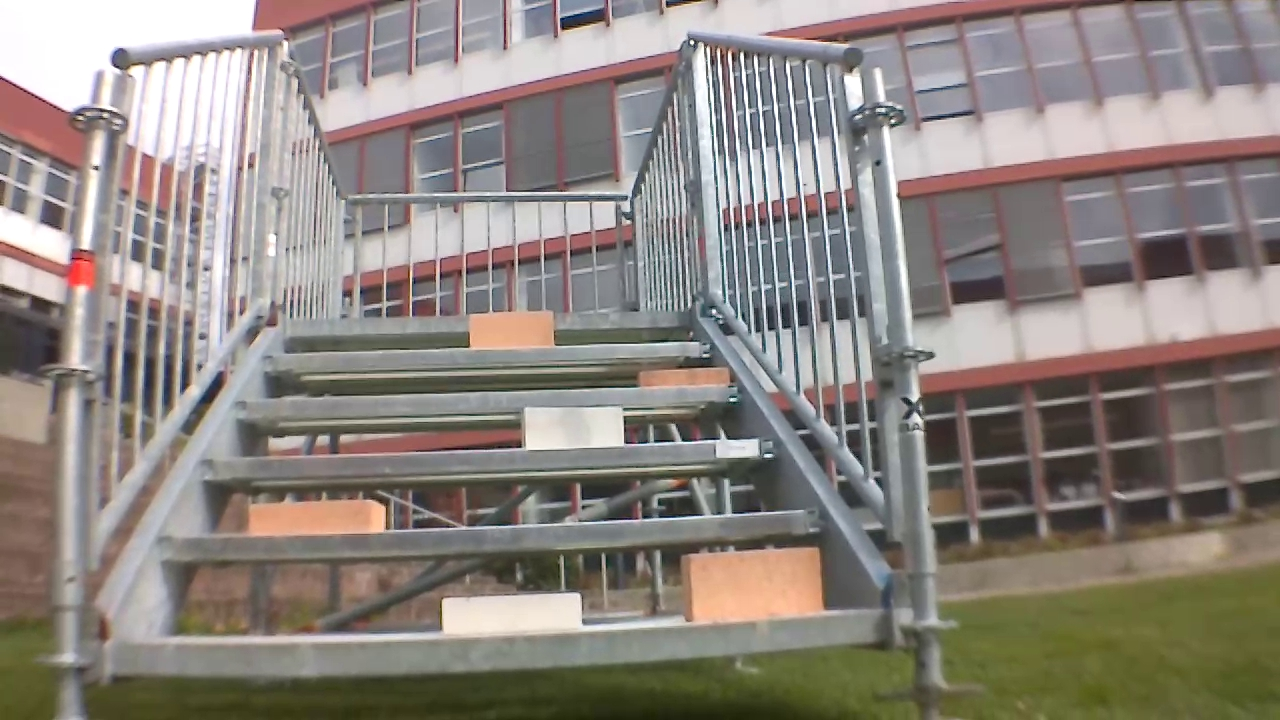brick: (683, 550, 823, 622), (440, 591, 589, 633), (241, 495, 394, 534), (526, 410, 623, 447), (465, 315, 552, 345), (634, 365, 736, 387)
edge: (104, 609, 889, 679), (157, 512, 828, 566), (203, 438, 777, 488), (232, 385, 751, 422), (258, 343, 715, 375), (288, 309, 690, 334)
stairs: (67, 31, 926, 701)
steps: (106, 305, 889, 686)
